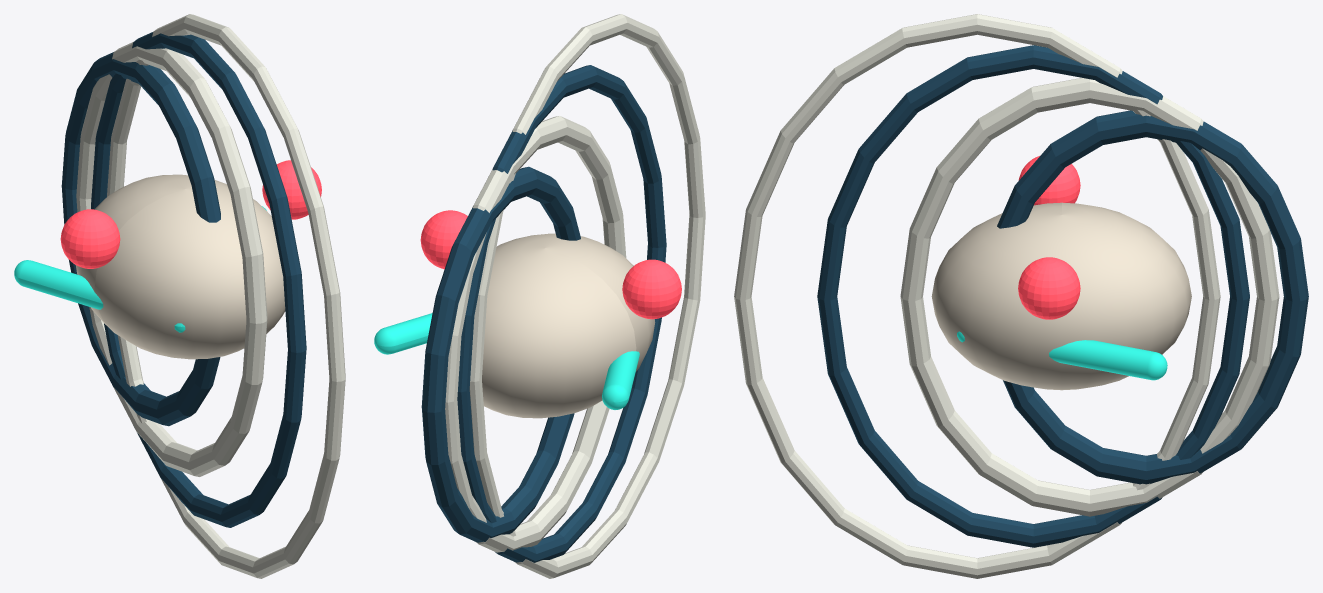
The model's file is landmark-medium.glb.
The picture shows the model from 3 angles, left to right: view 1: azimuth 30°, elevation 25°; view 2: azimuth 150°, elevation 25°; view 3: azimuth 270°, elevation 25°; orthographic projection. The views are drawn at different scales.
Visible parts, largest first — view 1: porcelain_static, accent_static, motion-organ, hazard_static, motion-conduit_-1; view 2: porcelain_static, accent_static, motion-organ, hazard_static, motion-conduit_1, motion-conduit_-1; view 3: porcelain_static, accent_static, motion-organ, hazard_static, motion-conduit_1.
Part boxes in pixels (bbox=[...]): porcelain_static: bbox=[76, 14, 345, 578]; accent_static: bbox=[61, 32, 306, 527]; motion-organ: bbox=[75, 174, 285, 359]; hazard_static: bbox=[60, 160, 321, 268]; motion-conduit_-1: bbox=[14, 260, 185, 332]; porcelain_static: bbox=[445, 14, 705, 578]; accent_static: bbox=[421, 65, 666, 562]; motion-organ: bbox=[482, 233, 655, 418]; hazard_static: bbox=[420, 210, 681, 319]; motion-conduit_1: bbox=[374, 313, 432, 354]; motion-conduit_-1: bbox=[602, 351, 639, 409]; porcelain_static: bbox=[734, 14, 1279, 578]; accent_static: bbox=[817, 45, 1308, 547]; motion-organ: bbox=[931, 202, 1191, 390]; hazard_static: bbox=[1018, 156, 1080, 319]; motion-conduit_1: bbox=[957, 331, 1167, 380].
Size of the model in its own units: 706 by 1434 by 1323.
